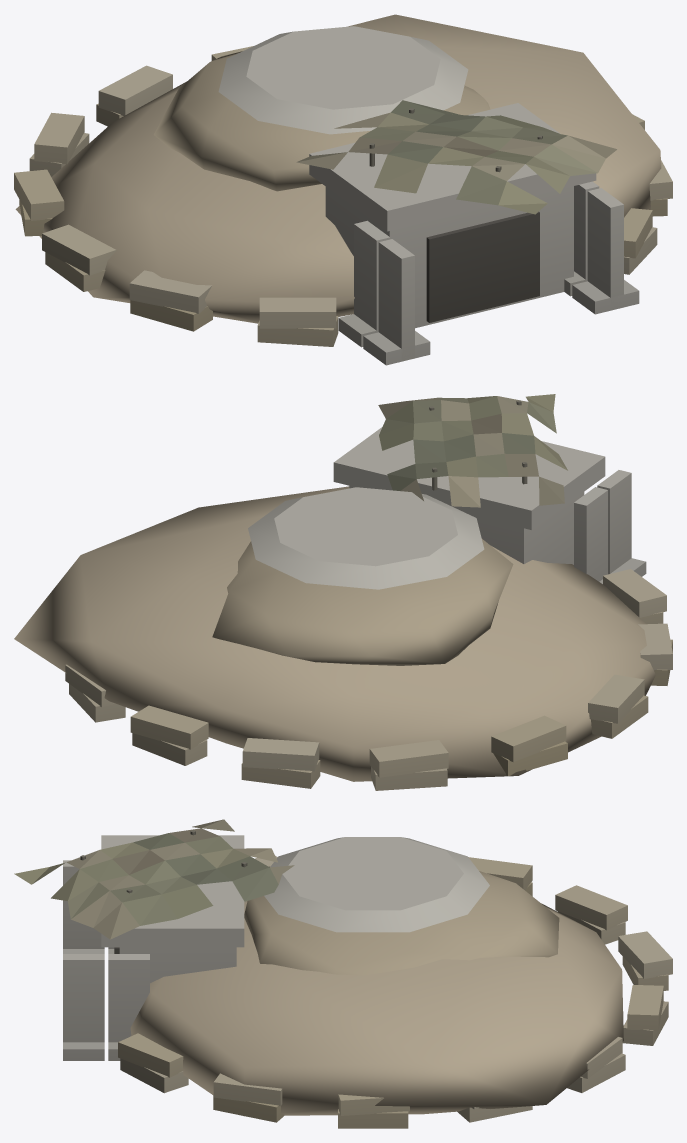
The model's file is m_tunnel_985202f9.glb.
3 renders of one model, top to bottom at view 1: azimuth 30°, elevation 25°; view 2: azimuth 150°, elevation 25°; view 3: azimuth 270°, elevation 25°, orthographic. The views are drawn at different scales.
Parts seen in each view (by area): view 1: mesh; view 2: mesh; view 3: mesh.
Part boxes in pixels (box(x1,y1,x2,y2)): mesh: box(14, 14, 672, 365); mesh: box(14, 394, 672, 790); mesh: box(14, 819, 672, 1128).
Size of the model in its own units: 46.18 by 14.06 by 50.68.
